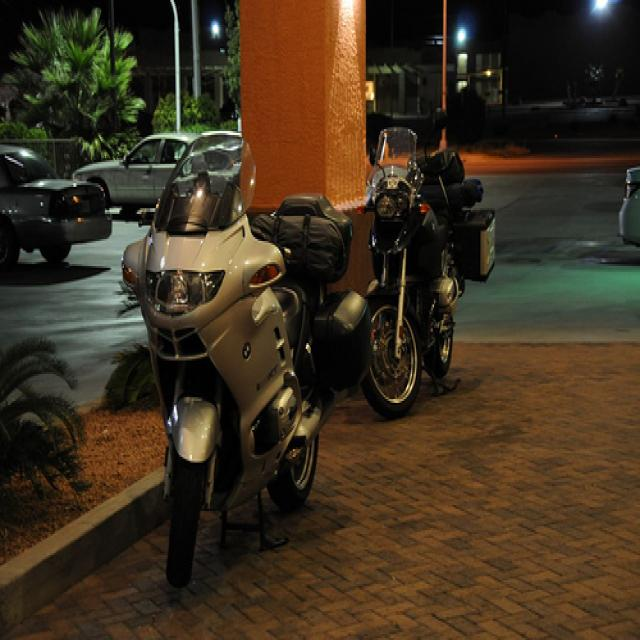Motorbike: (108, 137, 300, 572), (240, 162, 488, 412)
